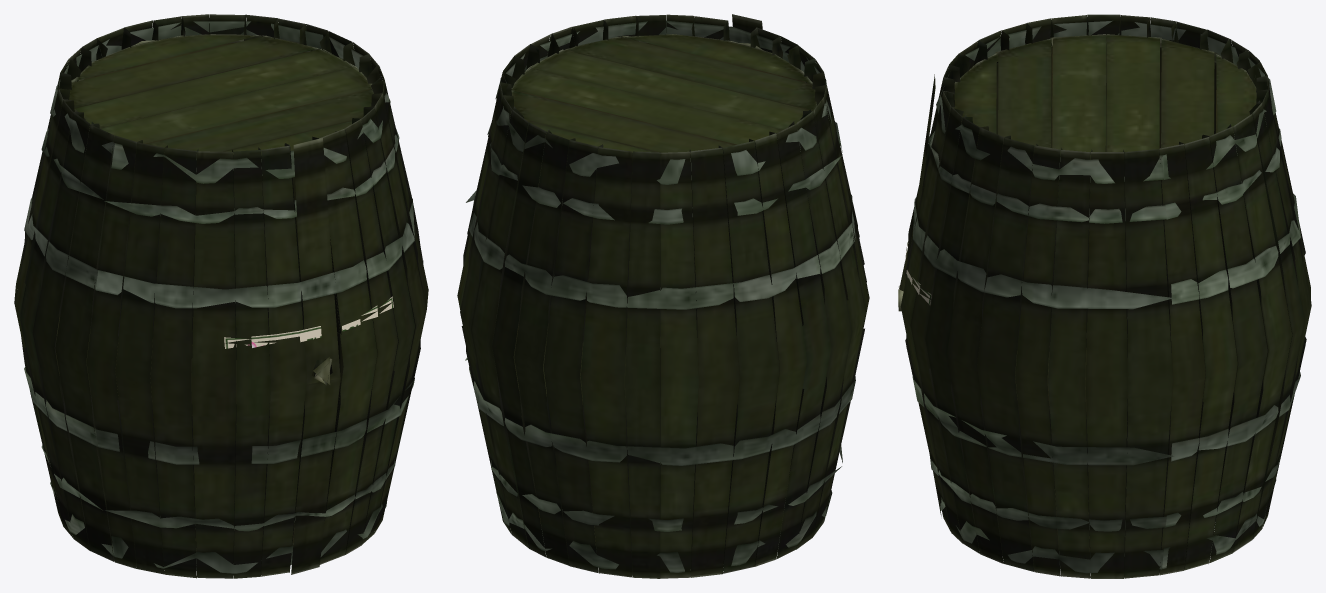
The model's file is katz_pickles.glb.
The picture shows the model from 3 angles, left to right: view 1: azimuth 30°, elevation 25°; view 2: azimuth 150°, elevation 25°; view 3: azimuth 270°, elevation 25°; orthographic projection.
Parts seen in each view (by area): view 1: wine_barrel_01_Lid, stk_lbl_9c5edc32e6.png; view 2: wine_barrel_01_Lid; view 3: wine_barrel_01_Lid.
Part boxes in pixels (<box>): wine_barrel_01_Lid: <box>14,14,428,578</box>; stk_lbl_9c5edc32e6.png: <box>224,296,393,348</box>; wine_barrel_01_Lid: <box>457,14,869,578</box>; wine_barrel_01_Lid: <box>898,14,1311,578</box>.
Size of the model in its own units: 0.761 by 0.8804 by 0.7632.
2 materials, 2 textured.
